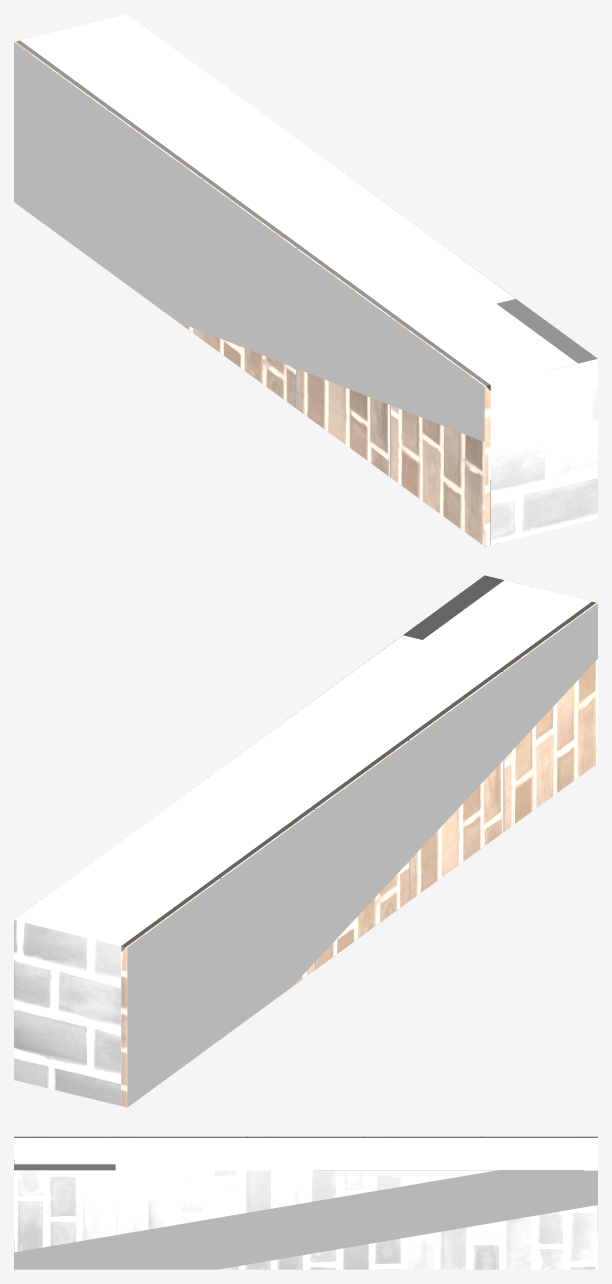
The model's file is SM_ClosetShort.fbx.
3 renders of one model, top to bottom at view 1: azimuth 30°, elevation 25°; view 2: azimuth 150°, elevation 25°; view 3: azimuth 270°, elevation 25°, orthographic. The views are drawn at different scales.
Visible parts, largest first — view 1: SM_ClosetShort, SM_ClosetShort_ConvexHulls; view 2: SM_ClosetShort, SM_ClosetShort_ConvexHulls; view 3: SM_ClosetShort, SM_ClosetShort_ConvexHulls.
Part boxes in pixels (x1,y1,x2,y2): SM_ClosetShort: (14, 14, 597, 546); SM_ClosetShort_ConvexHulls: (14, 40, 597, 546); SM_ClosetShort: (14, 580, 597, 1107); SM_ClosetShort_ConvexHulls: (21, 575, 597, 1107); SM_ClosetShort: (14, 1136, 597, 1269); SM_ClosetShort_ConvexHulls: (14, 1136, 597, 1269).
Size of the model in its own units: 370 by 2661 by 500.
